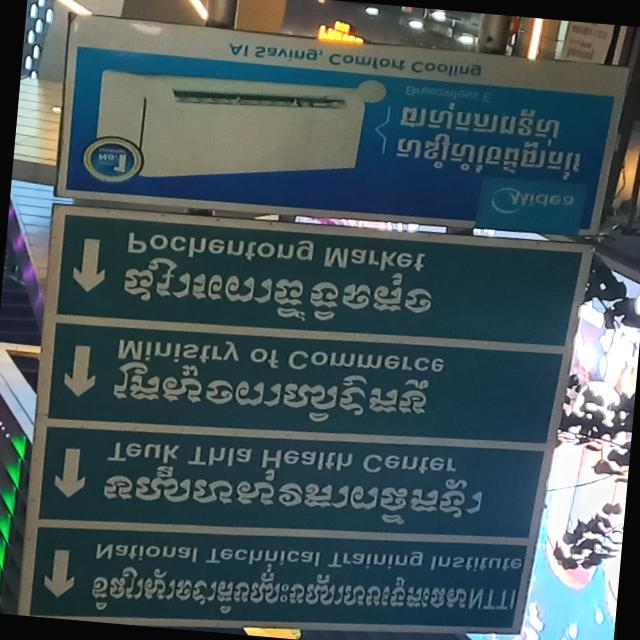1: (115, 253, 453, 333)
Yolov11kh: (95, 457, 483, 528), (108, 362, 448, 427), (85, 562, 470, 616), (390, 132, 585, 184), (396, 100, 567, 146)
